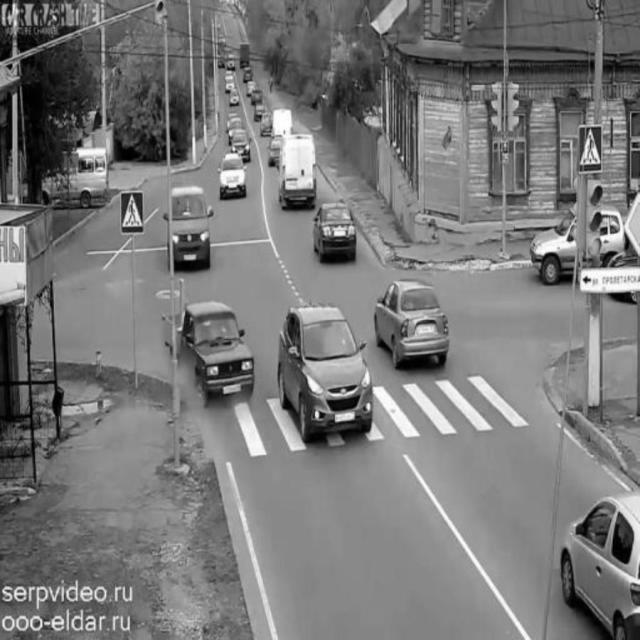vehicle: (276, 308, 374, 439), (562, 488, 640, 640), (163, 302, 255, 404), (531, 208, 625, 286), (374, 282, 452, 372), (38, 145, 111, 202), (167, 185, 214, 273), (277, 135, 319, 211), (312, 200, 359, 267), (219, 156, 247, 201), (230, 128, 252, 163), (238, 43, 253, 71), (258, 110, 274, 136), (247, 89, 265, 109), (228, 84, 242, 108)
